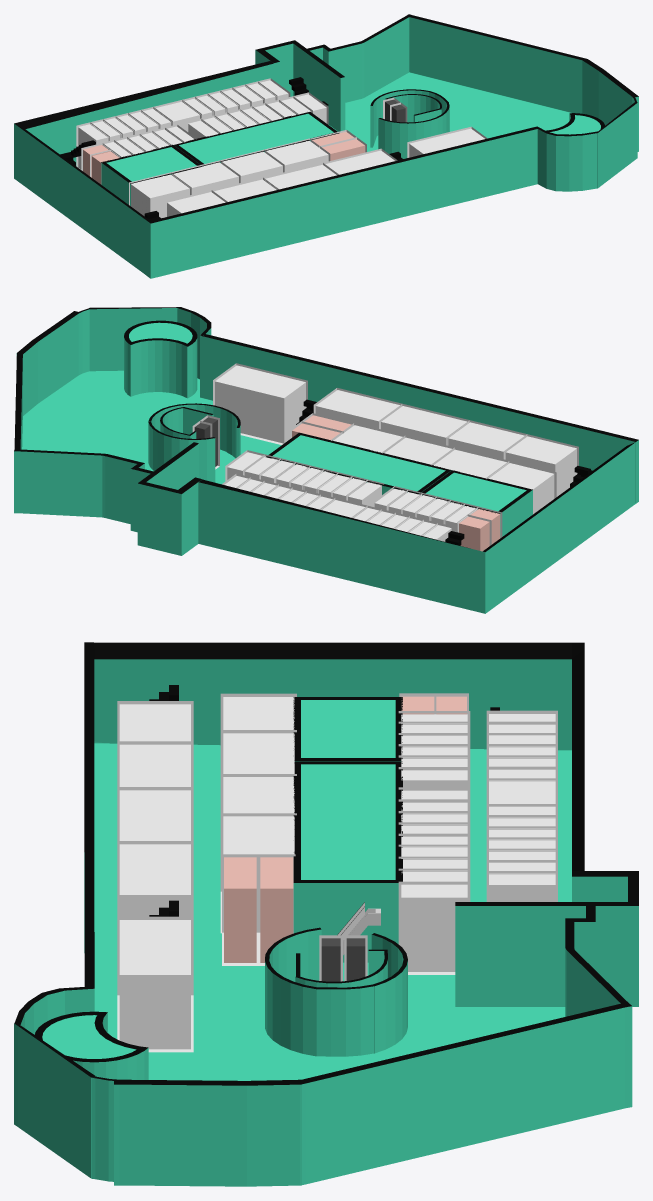
3 renders of one model, top to bottom at view 1: azimuth 30°, elevation 25°; view 2: azimuth 150°, elevation 25°; view 3: azimuth 270°, elevation 25°, orthographic. The views are drawn at different scales.
Parts seen in each view (by area): view 1: object, room_9_7_2, room_9_7_39, room_9_7_3, room_9_7_4, room_9_7_5, room_9_7_10, room_9_7_8, room_9_7_9, room_9_7_6, room_9_7_7, room_9_7_1 (+4 smaller); view 2: object, room_9_7_10, room_9_7_6, room_9_7_39, room_9_7_8, room_9_7_9, room_9_7_7, room_9_7_2, room_9_7_3, room_9_7_4, room_9_7_5, トイレ_9_7_1 (+6 smaller); view 3: object, room_9_7_10, room_9_7_9, room_9_7_38, room_9_7_8, トイレ_9_7_2, room_9_7_7, room_9_7_3, トイレ_9_7_4, room_9_7_5, room_9_7_6, room_9_7_4 (+11 smaller).
Boxes of the visible parts, bbox=[...] form: object: bbox=[14, 14, 638, 278]; room_9_7_2: bbox=[131, 174, 189, 218]; room_9_7_39: bbox=[449, 104, 534, 138]; room_9_7_3: bbox=[171, 162, 238, 195]; room_9_7_4: bbox=[221, 151, 282, 183]; room_9_7_5: bbox=[266, 140, 328, 171]; room_9_7_10: bbox=[409, 128, 484, 157]; room_9_7_8: bbox=[263, 165, 336, 189]; room_9_7_9: bbox=[325, 150, 394, 174]; room_9_7_6: bbox=[167, 192, 225, 216]; room_9_7_7: bbox=[214, 179, 276, 201]; room_9_7_1: bbox=[154, 102, 199, 130]; object: bbox=[14, 307, 638, 613]; room_9_7_10: bbox=[215, 365, 305, 443]; room_9_7_6: bbox=[505, 436, 576, 496]; room_9_7_39: bbox=[50, 421, 148, 457]; room_9_7_8: bbox=[381, 406, 468, 445]; room_9_7_9: bbox=[315, 390, 399, 428]; room_9_7_7: bbox=[448, 422, 524, 459]; room_9_7_2: bbox=[488, 463, 554, 514]; room_9_7_3: bbox=[434, 449, 508, 478]; room_9_7_4: bbox=[384, 437, 453, 465]; room_9_7_5: bbox=[333, 425, 402, 452]; トイレ_9_7_1: bbox=[459, 516, 489, 551]; object: bbox=[14, 642, 638, 1186]; room_9_7_10: bbox=[119, 920, 190, 1049]; room_9_7_9: bbox=[119, 844, 190, 916]; room_9_7_38: bbox=[401, 884, 467, 971]; room_9_7_8: bbox=[119, 790, 190, 840]; トイレ_9_7_2: bbox=[224, 857, 256, 962]; room_9_7_7: bbox=[119, 744, 190, 790]; room_9_7_3: bbox=[223, 733, 294, 776]; トイレ_9_7_4: bbox=[260, 857, 293, 962]; room_9_7_5: bbox=[223, 816, 294, 854]; room_9_7_6: bbox=[119, 704, 190, 741]; room_9_7_4: bbox=[223, 777, 294, 813].
Size of the model in its own units: 2.34 by 0.2645 by 1.4.
